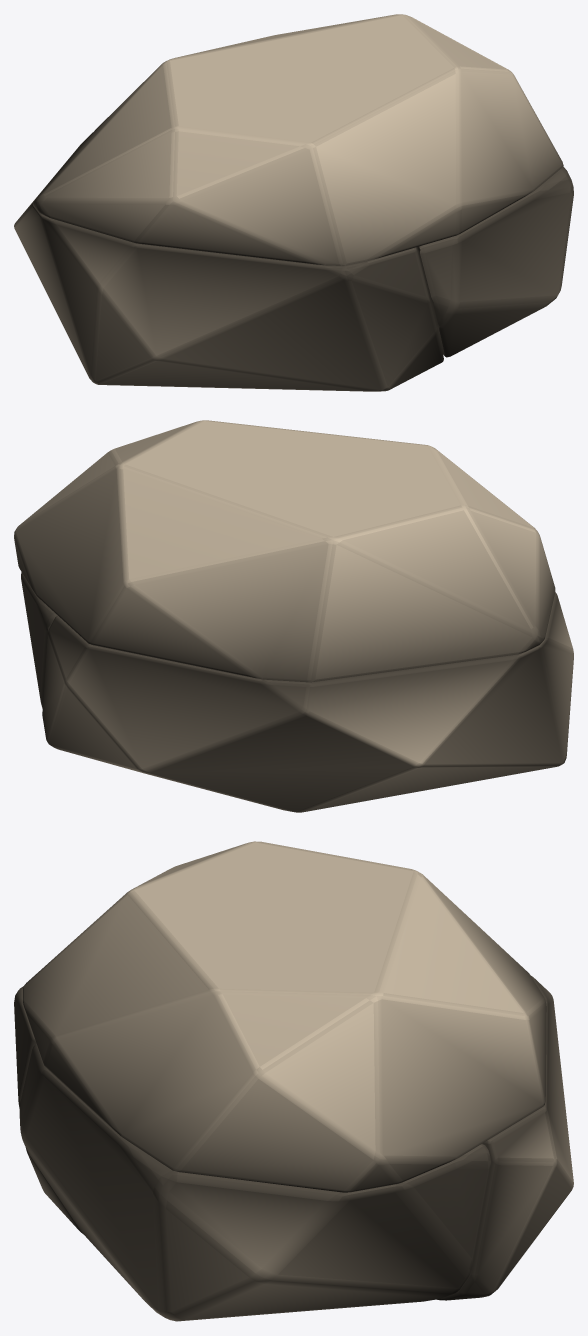
File: rock_01.glb
3 views of the same model, one above another, from view 1: azimuth 30°, elevation 25°; view 2: azimuth 150°, elevation 25°; view 3: azimuth 270°, elevation 25° (orthographic). The views are drawn at different scales.
Visible parts, largest first — view 1: rock_01; view 2: rock_01; view 3: rock_01.
Boxes of the visible parts, x1,y1,x2,y2 form: rock_01: (14, 14, 573, 391); rock_01: (14, 420, 573, 812); rock_01: (14, 841, 573, 1321).
Bounding box in the file's own units: 0.86 × 0.4 × 0.7.
